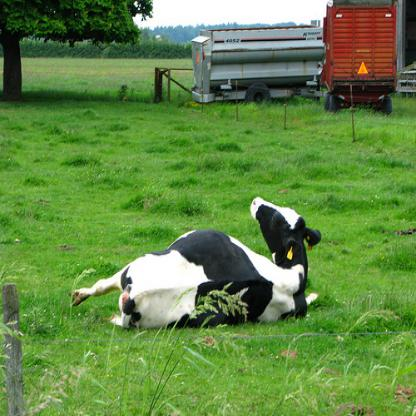cow: (69, 198, 319, 332)
